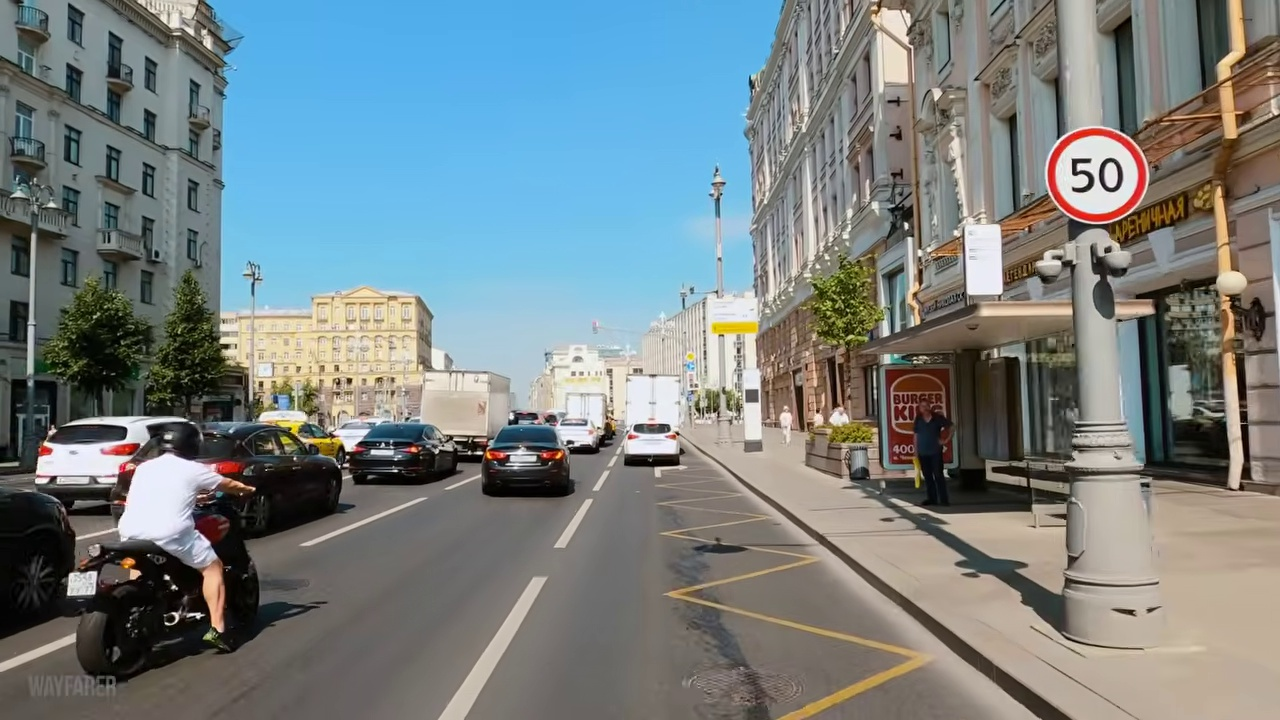apagada: (9, 180, 60, 213)
